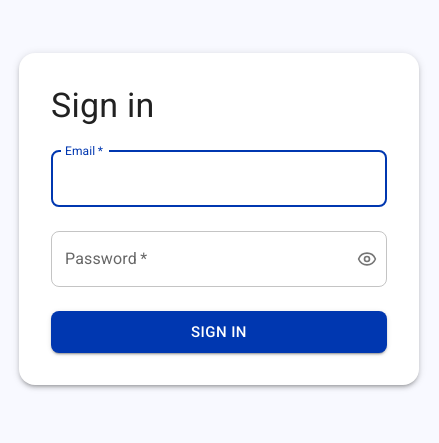
Test case: Login › stays on the form when the API rejects the credentials
This screenshot has width=439, height=443.
Type "person@example.com" into the field labelled "Email *". click: {"x": 219, "y": 179}
box: [51,151,387,207]
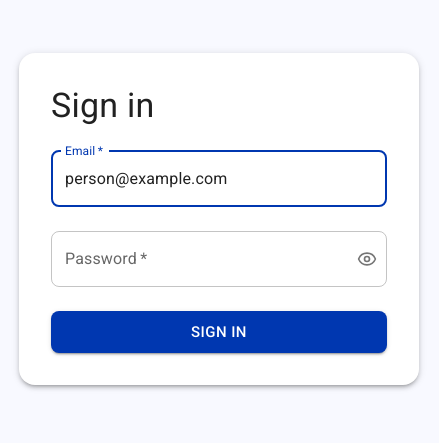
Type "secret123" into the password field labelled "Password *". click: {"x": 196, "y": 259}
box: [51,231,341,287]
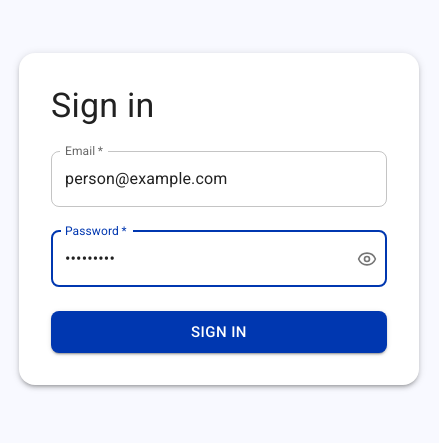
Click the button "Sign in". click: {"x": 219, "y": 332}
box: [51,311,387,353]
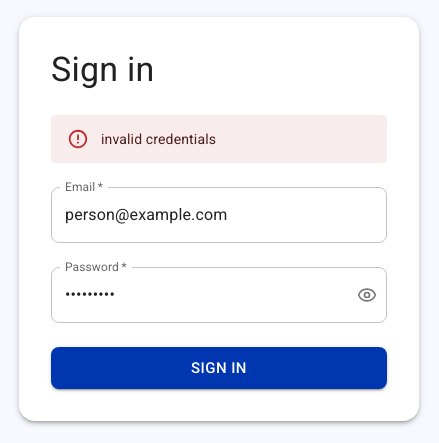
Result: the message "invalid credentials" is shown at [51,115,387,163]
